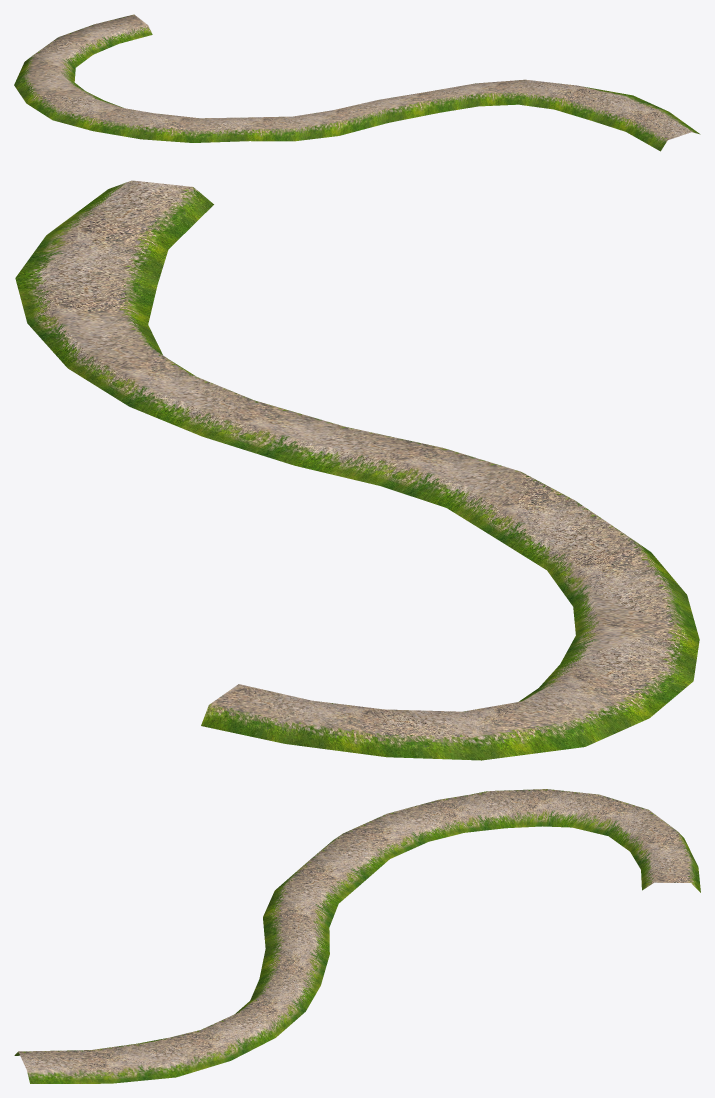
3 views of the same model, one above another, from view 1: azimuth 30°, elevation 25°; view 2: azimuth 150°, elevation 25°; view 3: azimuth 270°, elevation 25° (orthographic). The views are drawn at different scales.
Parts seen in each view (by area): view 1: rd_ro3-col; view 2: rd_ro3-col; view 3: rd_ro3-col.
Boxes of the visible parts, <box> form: rd_ro3-col: <box>14,14,700,151</box>; rd_ro3-col: <box>15,180,699,760</box>; rd_ro3-col: <box>14,789,700,1083</box>.
Bounding box in the file's own units: 40 × 0.8 × 39.35.
1 material, 1 textured.
